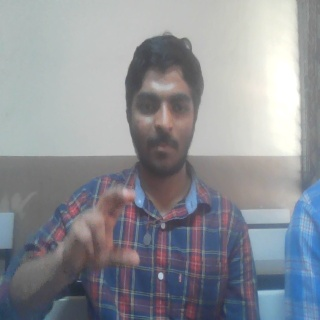Face: (123, 32, 205, 176)
No: (56, 184, 142, 272)
